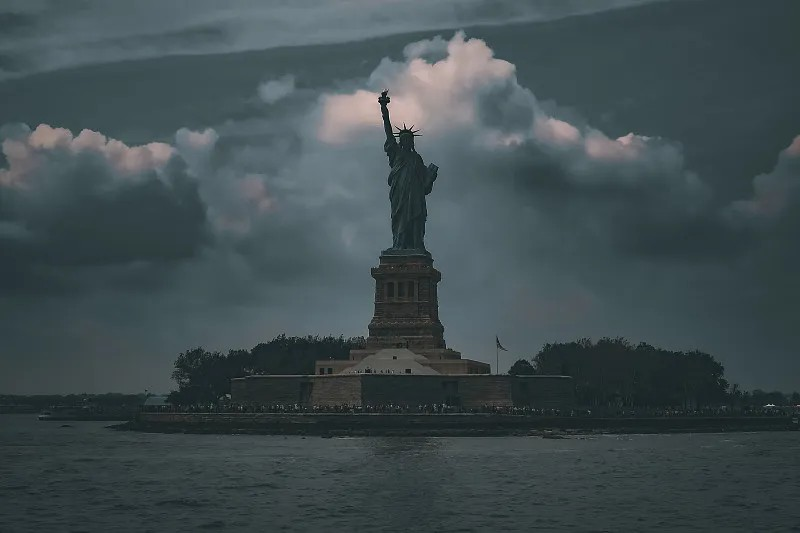SL: (365, 88, 446, 349)
